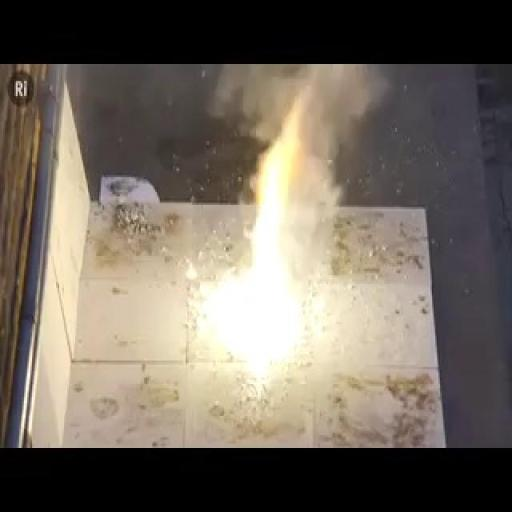smoke: (198, 186, 312, 384)
